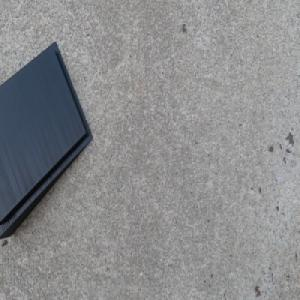PlasticPart: (0, 43, 93, 243)
